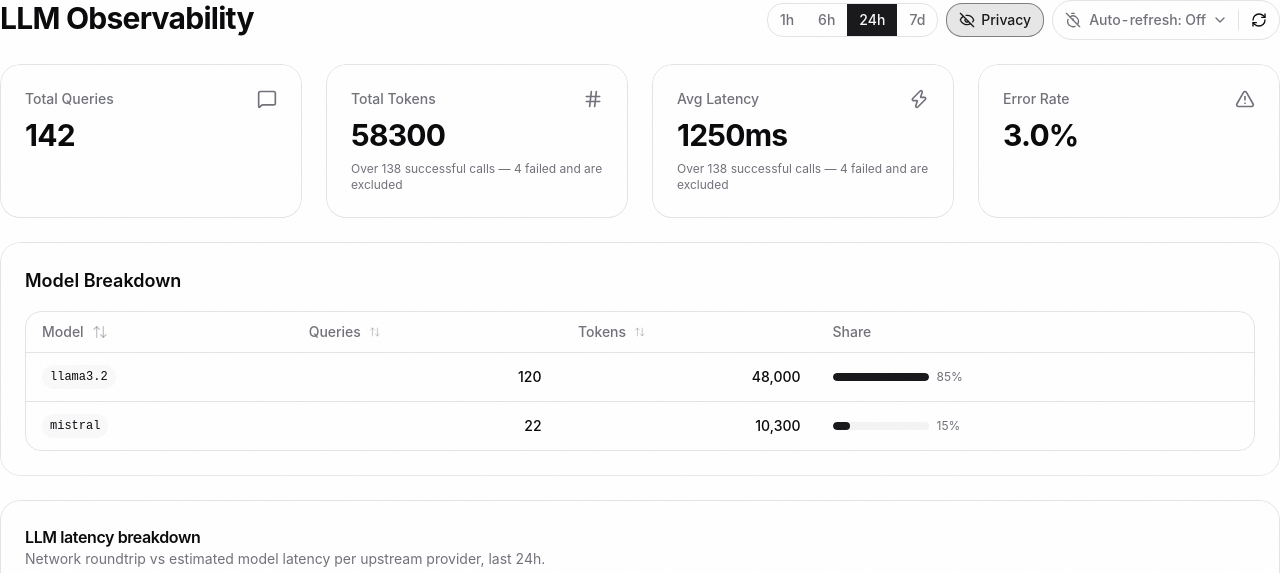
Test: time range drives the whole page › states the trace cap and the window next to the section heading
This screenshot has width=1280, height=573.
Click the button "6h".
click(827, 20)  # box [806, 4, 847, 36]
(page scrolled)
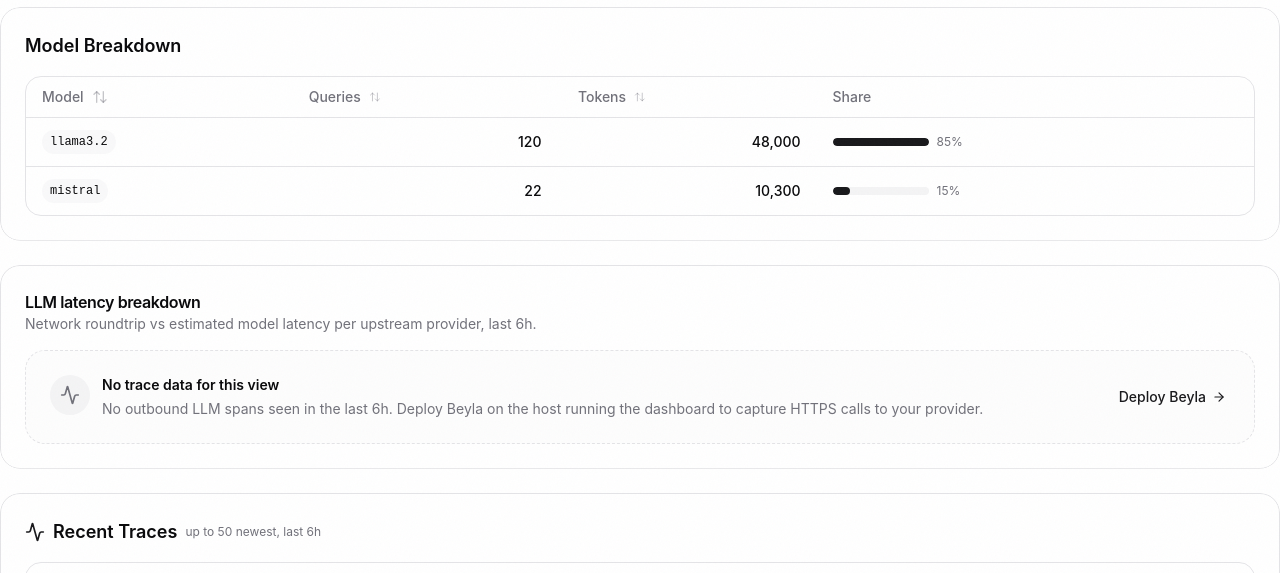
Now the text "up to 50 newest, last 6h" is shown, box [185, 524, 321, 540]
